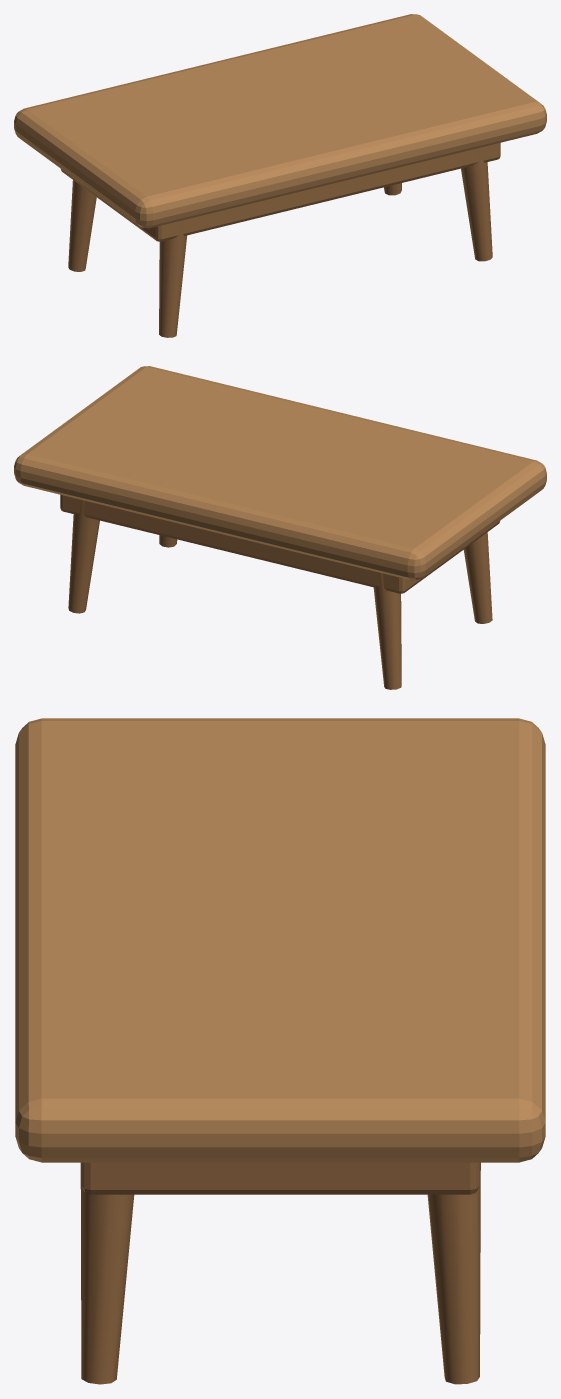
The model's file is table-oak.glb.
The picture shows the model from 3 angles, top to bottom: view 1: azimuth 30°, elevation 25°; view 2: azimuth 150°, elevation 25°; view 3: azimuth 270°, elevation 25°; orthographic projection. The views are drawn at different scales.
Visible parts, largest first — view 1: table-oak; view 2: table-oak; view 3: table-oak.
Boxes of the visible parts, x1,y1,x2,y2 form: table-oak: (14,14,546,337); table-oak: (14,366,546,689); table-oak: (15,718,545,1384).
Bounding box in the file's own units: 1.25 × 0.46 × 0.7.
